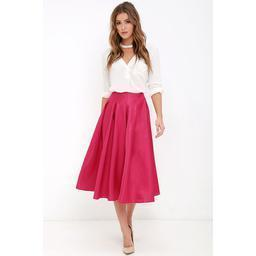shirt: (101, 46, 165, 99)
skirt: (76, 92, 161, 202)
